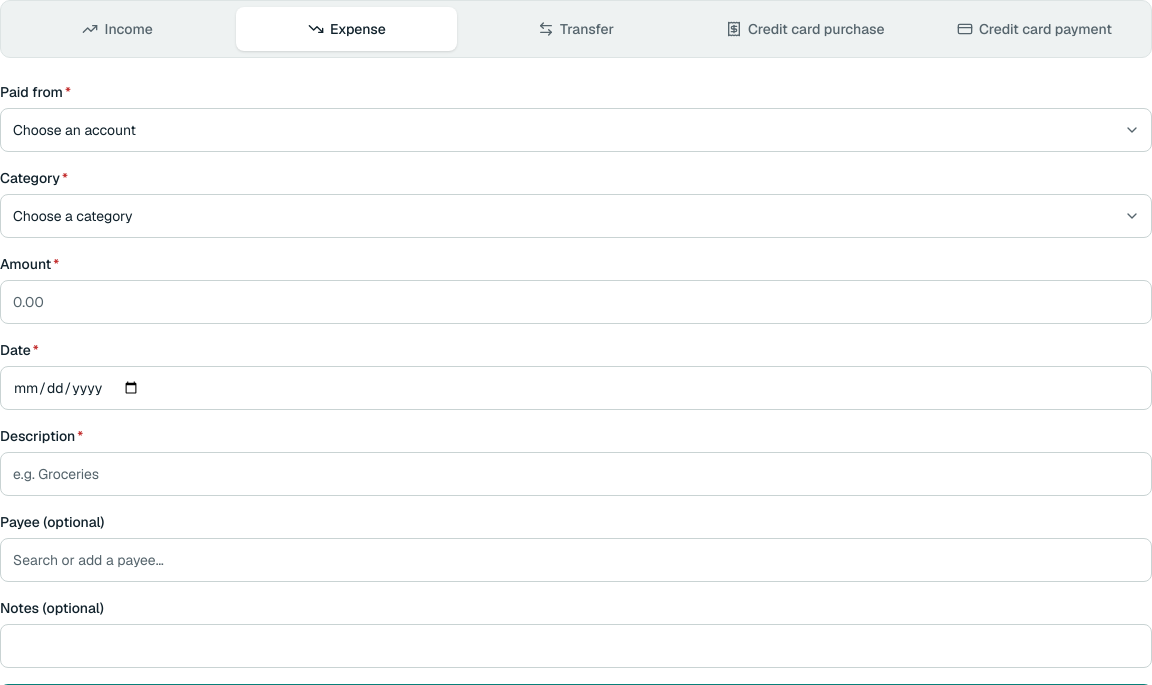
it: NewTransactionForm › switches to the transfer form
The width and height of the screenshot is (1152, 685).
Click the radio button labelled "Transfer".
click(576, 29)  # box [465, 7, 687, 51]
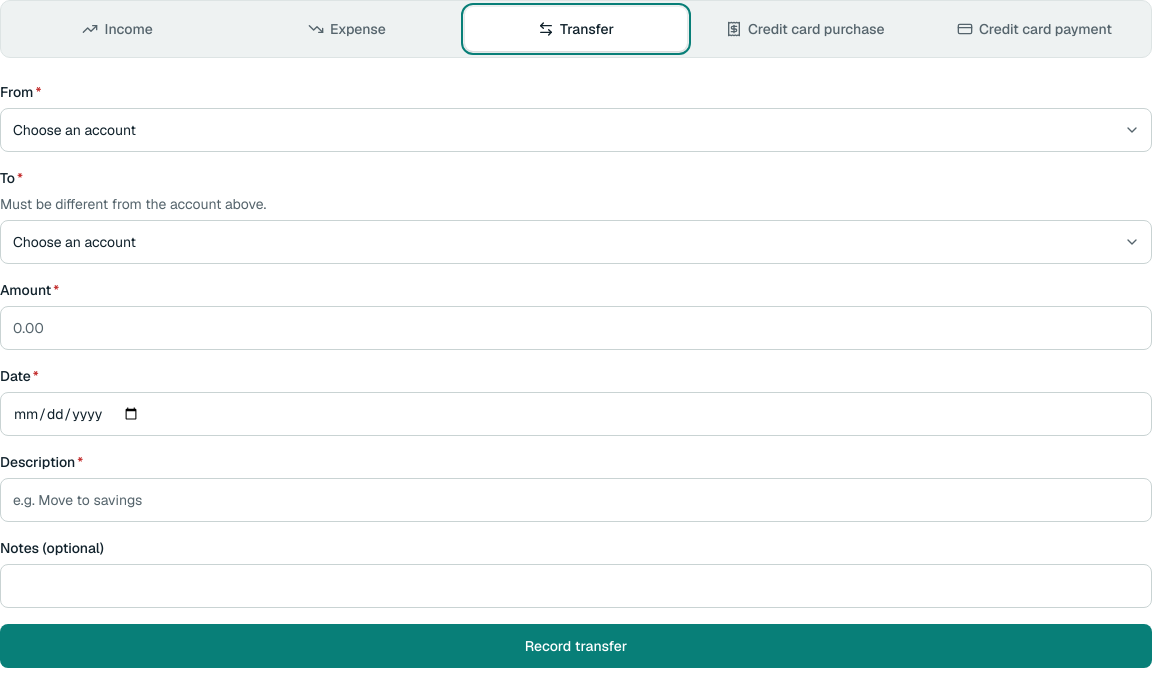
Expected: the dropdown labelled "From" is shown, [0, 108, 1151, 152]
Expected: the dropdown labelled "To" is shown, [0, 220, 1151, 264]
